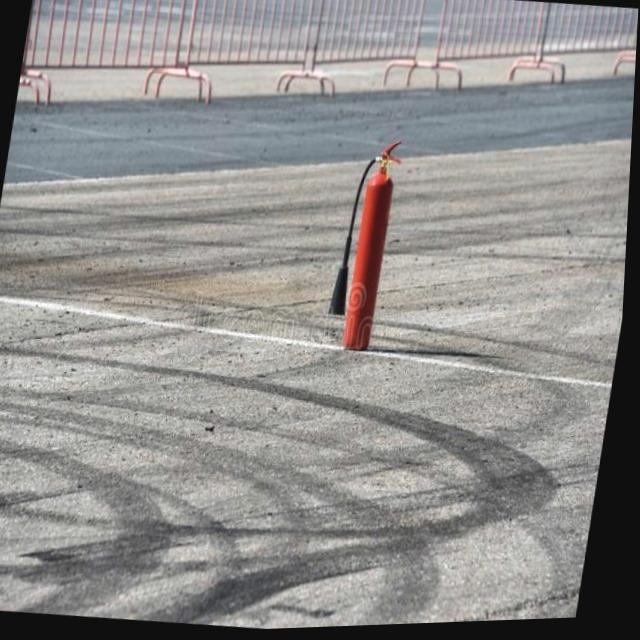FireExtinguisher: (315, 133, 427, 363)
